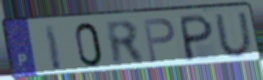0: (73, 21, 106, 70)
I: (42, 23, 64, 73)
P: (179, 12, 215, 63), (141, 16, 177, 64)
R: (103, 19, 148, 68)
U: (213, 10, 256, 59)
